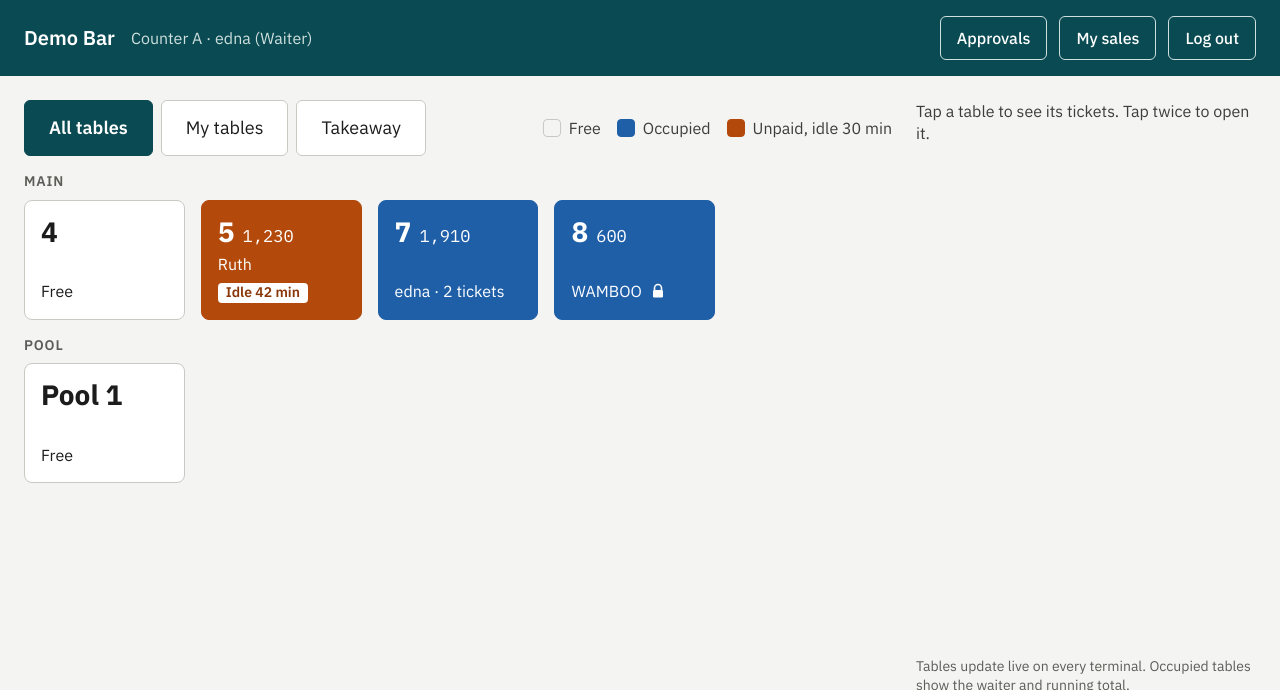
Test: table map › merges the picked tickets into the oldest, asking a supervisor when it needs approval
Step 1. Click the button with aria-label "7: " → {"x": 458, "y": 260}, box [378, 200, 538, 320]
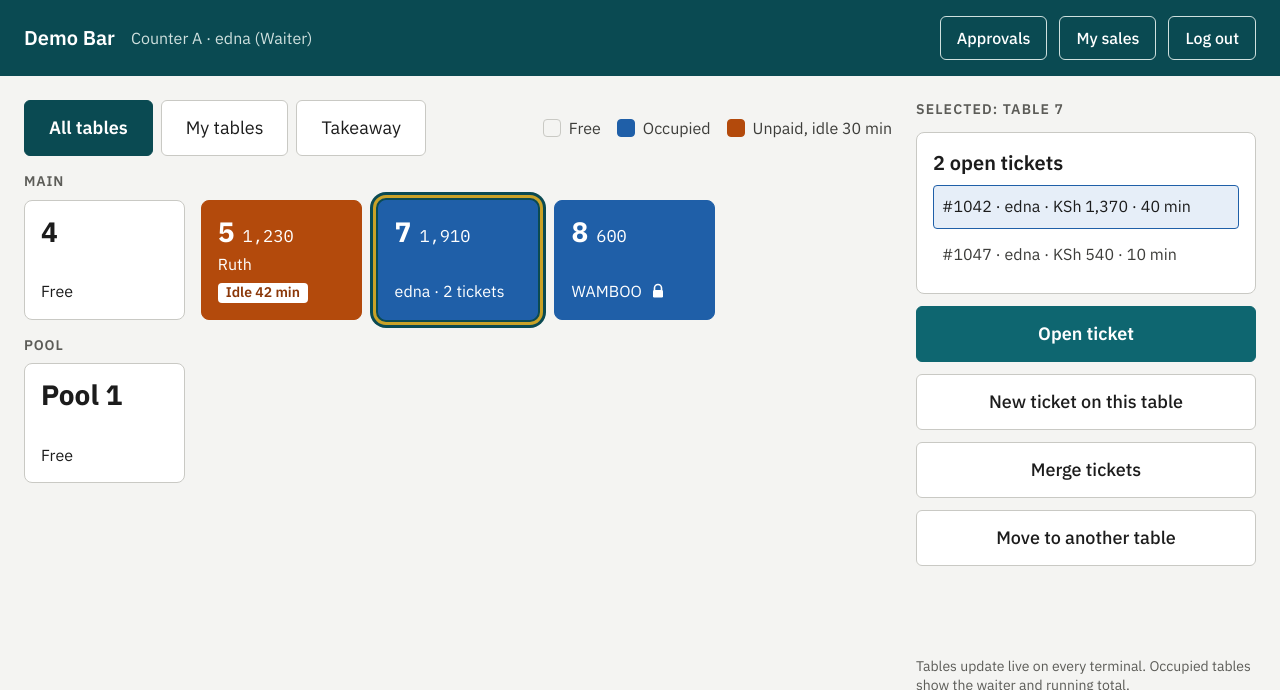
Step 2. Click the button "Merge tickets" → {"x": 1086, "y": 470}, box [916, 442, 1256, 498]
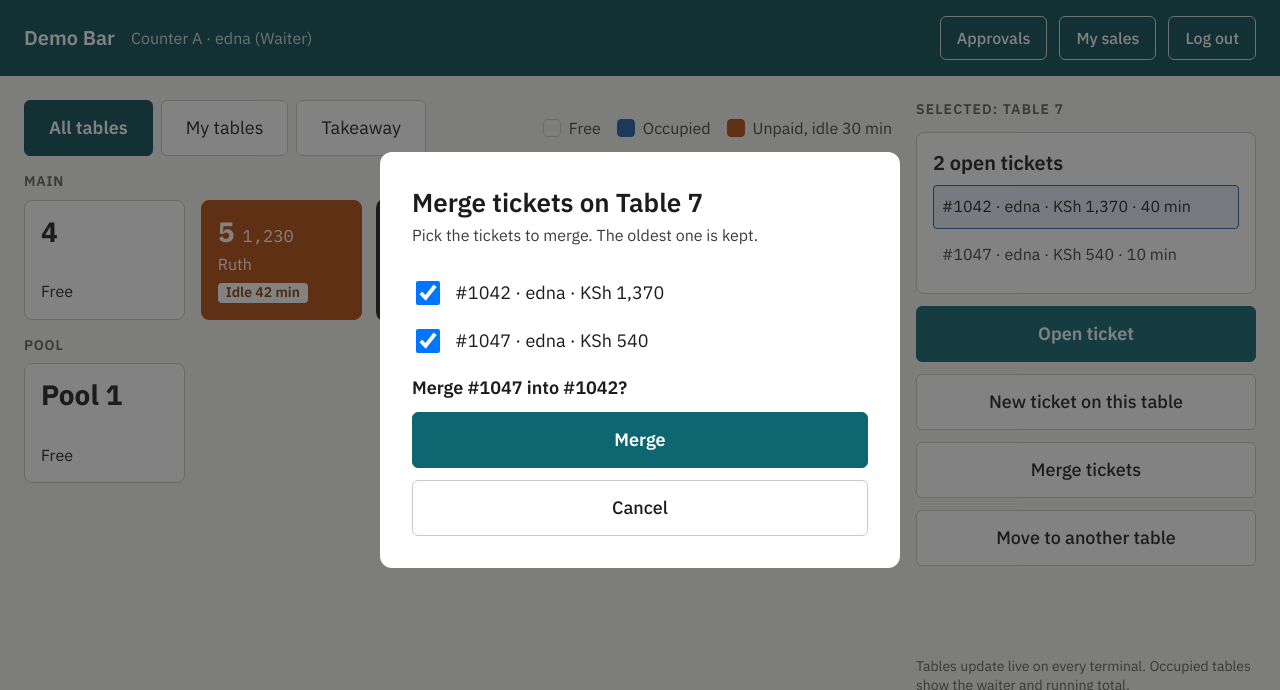
Expected: the dialog shows "Merge #1047 into #1042?", [412, 376, 627, 399]
Step 3. Click the button "Merge" → {"x": 640, "y": 440}, box [412, 412, 868, 468]
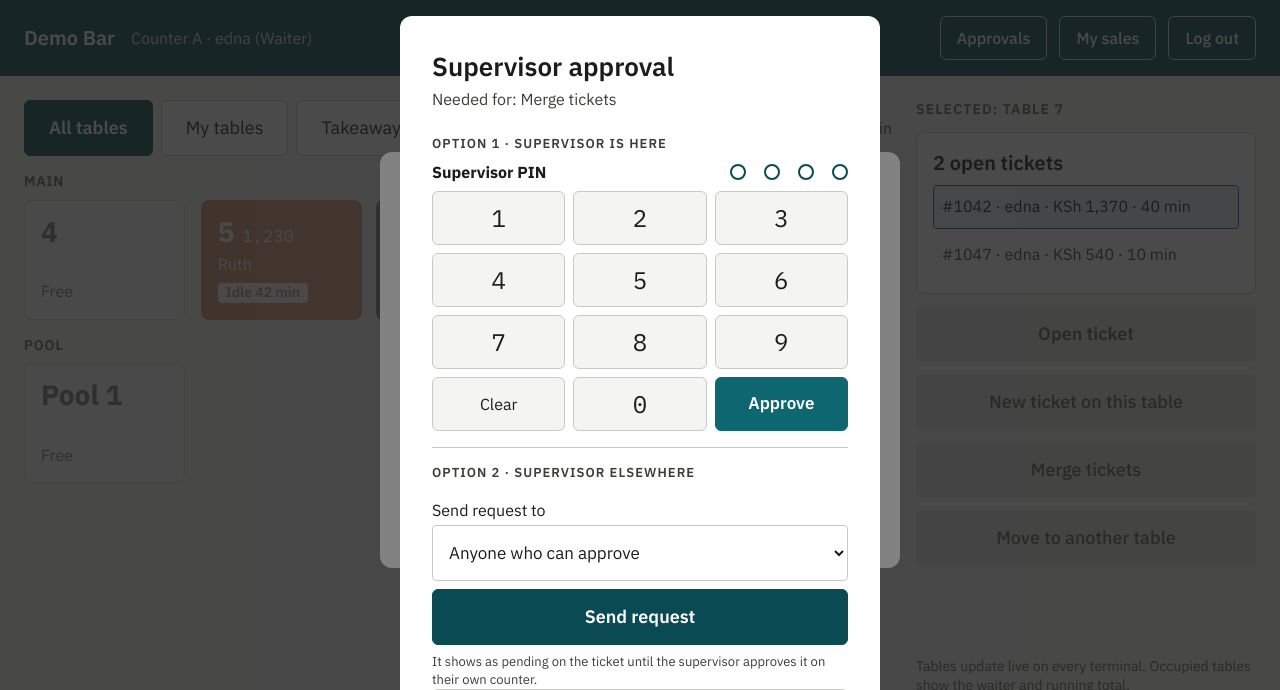
Step 4. Type keys "8014{Enter}"
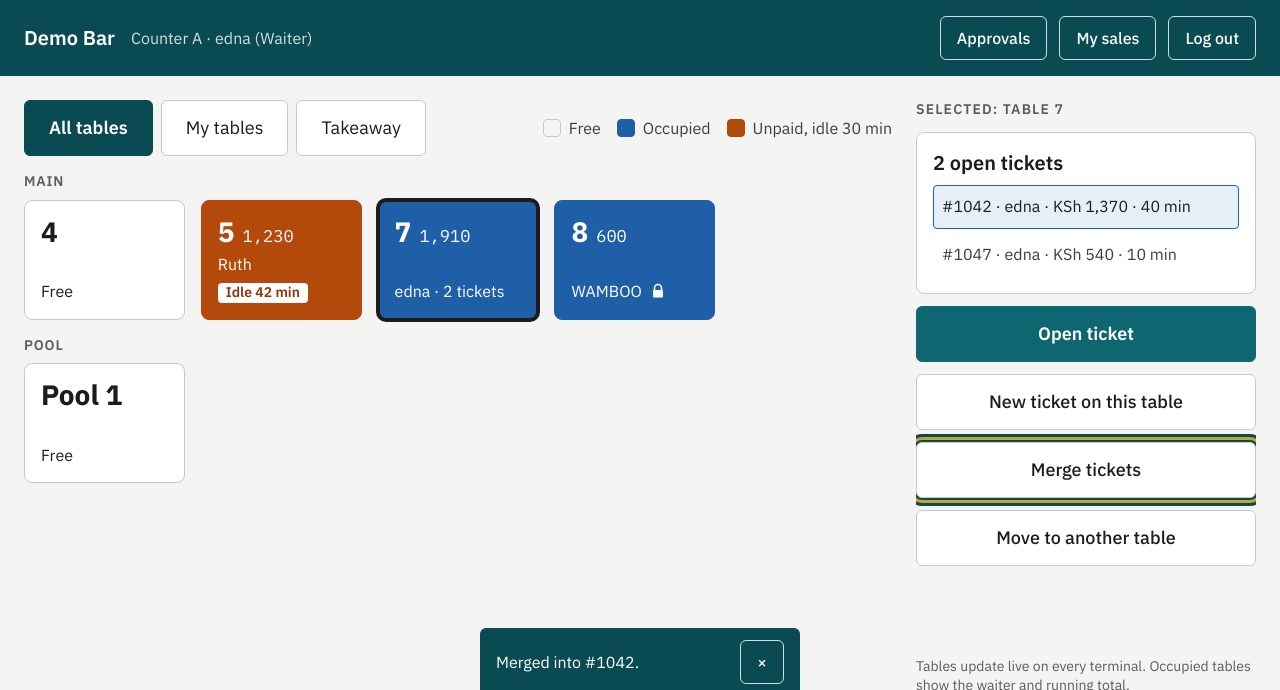
Expected: the text "Merged into #1042." is shown, [496, 652, 639, 672]
Expected: the heading "Supervisor approval" is gone
